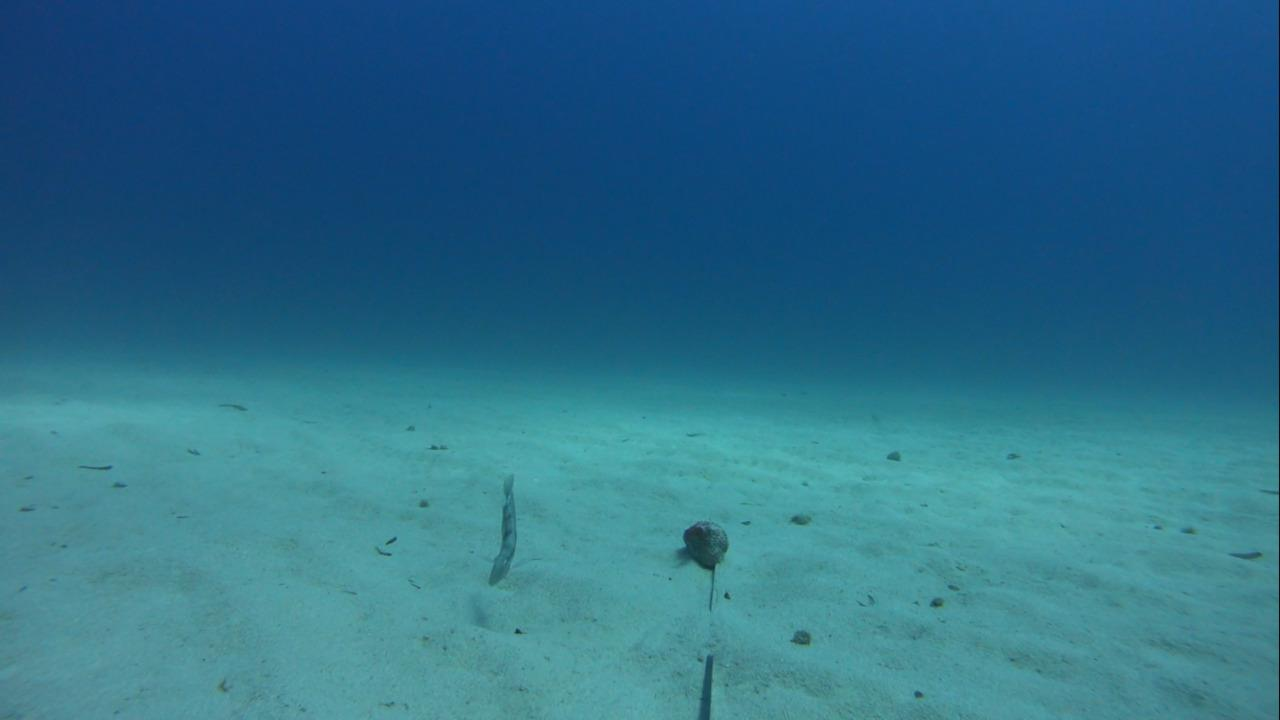raor: (482, 472, 524, 588)
